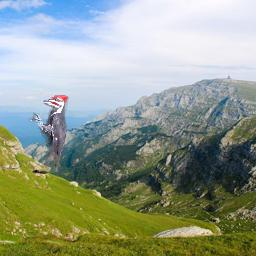Woodpecker: (29, 95, 69, 173)
